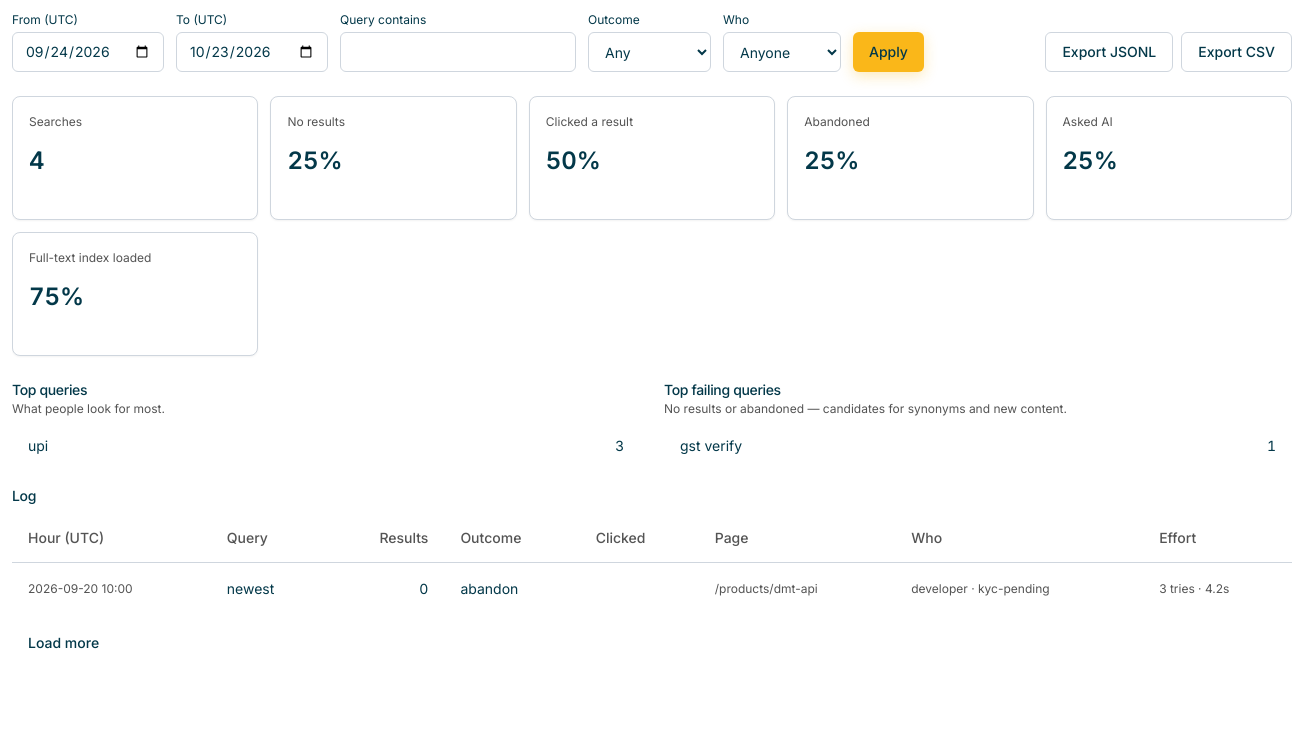
Test: AdminSearchLogs › shows page, who and effort; stage filter only for developers
Expected: the text "newest" is shown, [211,562,326,614]
Expected: the text "/products/dmt-api" is shown, [699,562,895,614]
Select "Developer" in the dropdown labelled "Who": (782, 52) [723,32,841,72]
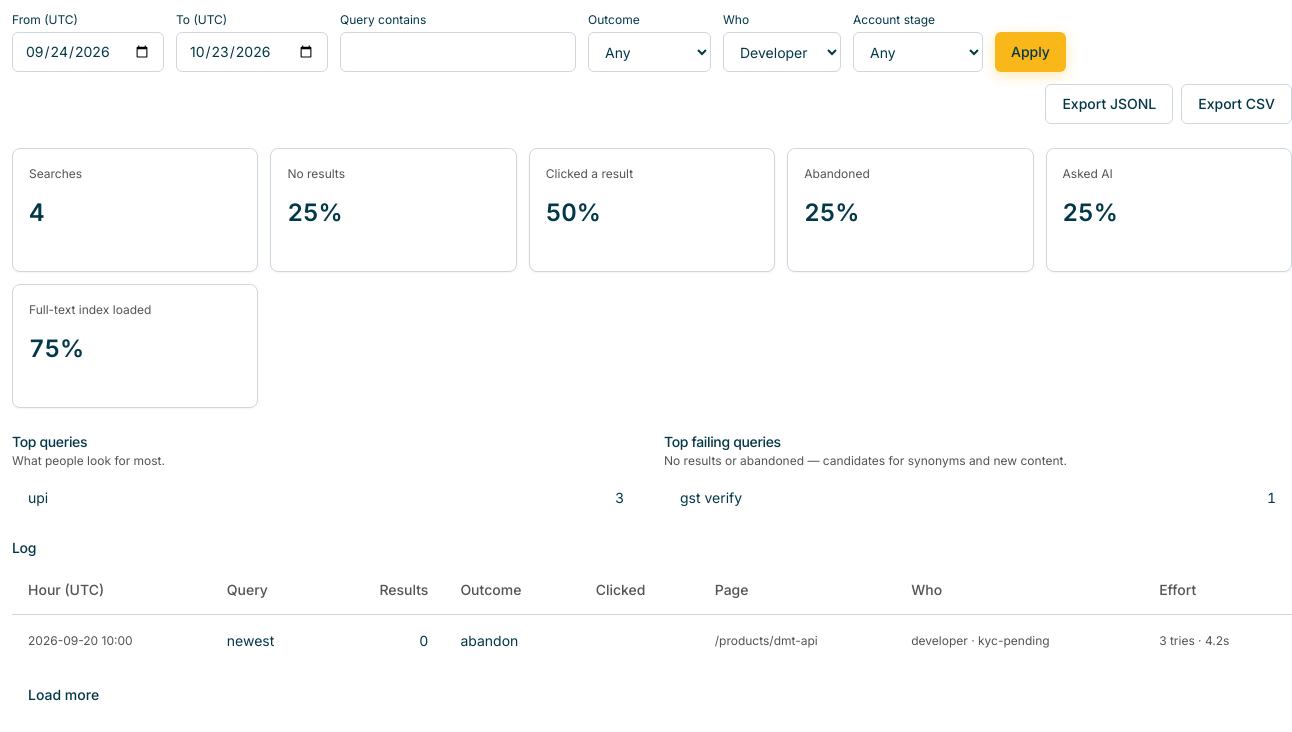
Expected: the dropdown labelled "Account stage" is shown, [853,32,983,72]
